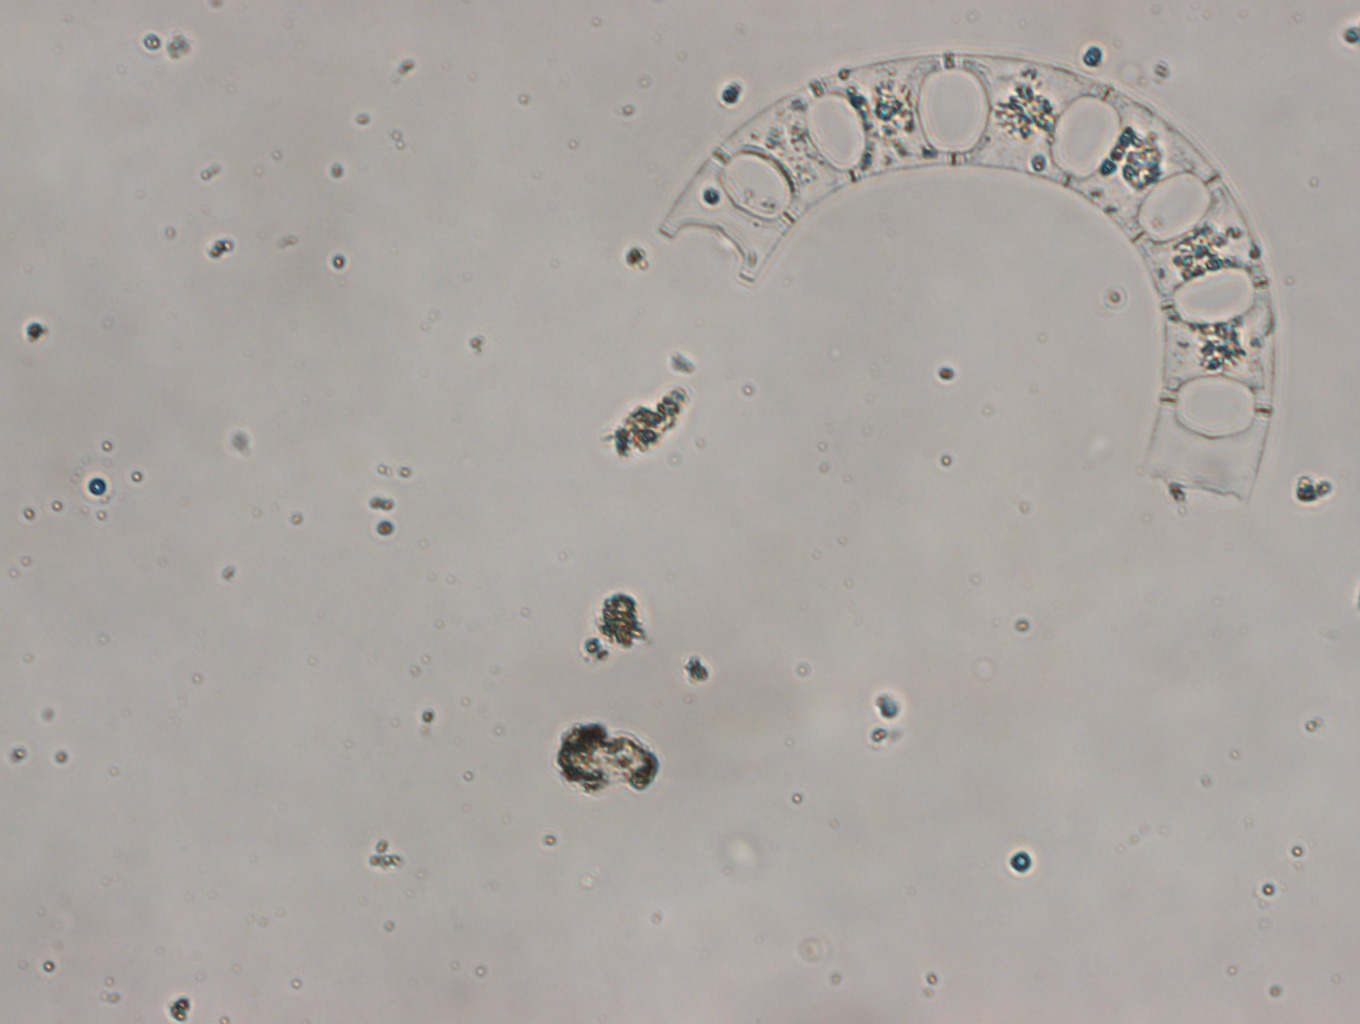eucampia: (646, 46, 1283, 511)
